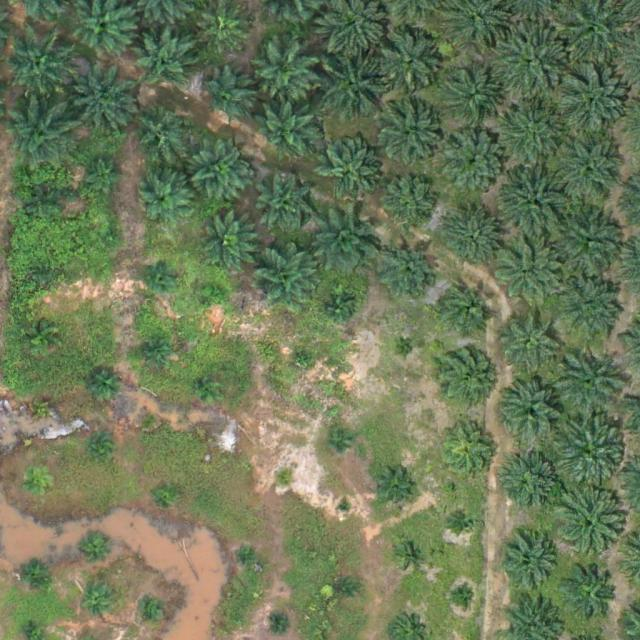Grass: (86, 154, 125, 194), (31, 191, 62, 222), (140, 338, 171, 369), (148, 261, 179, 292), (204, 283, 228, 307), (34, 262, 57, 286), (100, 228, 123, 252)
Healthy: (494, 163, 572, 242), (493, 96, 571, 175), (493, 20, 571, 99), (556, 66, 634, 145), (551, 203, 629, 282), (550, 414, 628, 492), (550, 488, 628, 566), (69, 66, 140, 137), (554, 136, 625, 207), (555, 274, 626, 345), (6, 31, 76, 102), (319, 53, 390, 123), (4, 99, 74, 169), (314, 209, 384, 279), (554, 348, 624, 418), (494, 240, 564, 310), (255, 99, 318, 162), (134, 28, 197, 91), (379, 108, 442, 171), (444, 132, 507, 195), (495, 306, 558, 369), (502, 379, 565, 442), (500, 454, 563, 517), (439, 420, 502, 483), (255, 249, 318, 312), (253, 42, 315, 105), (190, 142, 252, 205), (130, 103, 192, 166), (319, 141, 381, 204), (378, 33, 440, 96), (442, 210, 504, 273), (499, 534, 561, 597), (435, 278, 497, 341), (436, 344, 498, 407), (195, 212, 257, 274), (138, 174, 193, 230), (203, 70, 258, 125), (198, 3, 253, 58), (257, 176, 312, 231), (446, 73, 501, 128), (566, 568, 621, 623), (381, 177, 435, 232), (382, 244, 436, 299)
Small: (373, 470, 413, 510), (26, 322, 57, 354), (87, 372, 118, 404), (21, 471, 52, 503), (81, 534, 112, 566), (323, 292, 354, 324), (30, 391, 61, 423), (17, 558, 48, 589), (84, 586, 115, 617), (334, 578, 358, 602), (198, 377, 222, 401), (293, 350, 317, 374), (394, 338, 418, 362), (273, 469, 297, 493), (455, 512, 479, 536), (142, 601, 165, 625), (451, 585, 474, 609), (400, 543, 423, 567), (271, 613, 295, 636), (326, 430, 349, 454), (136, 406, 159, 430), (90, 438, 113, 461), (156, 483, 179, 506), (238, 544, 261, 567), (337, 499, 353, 515)
